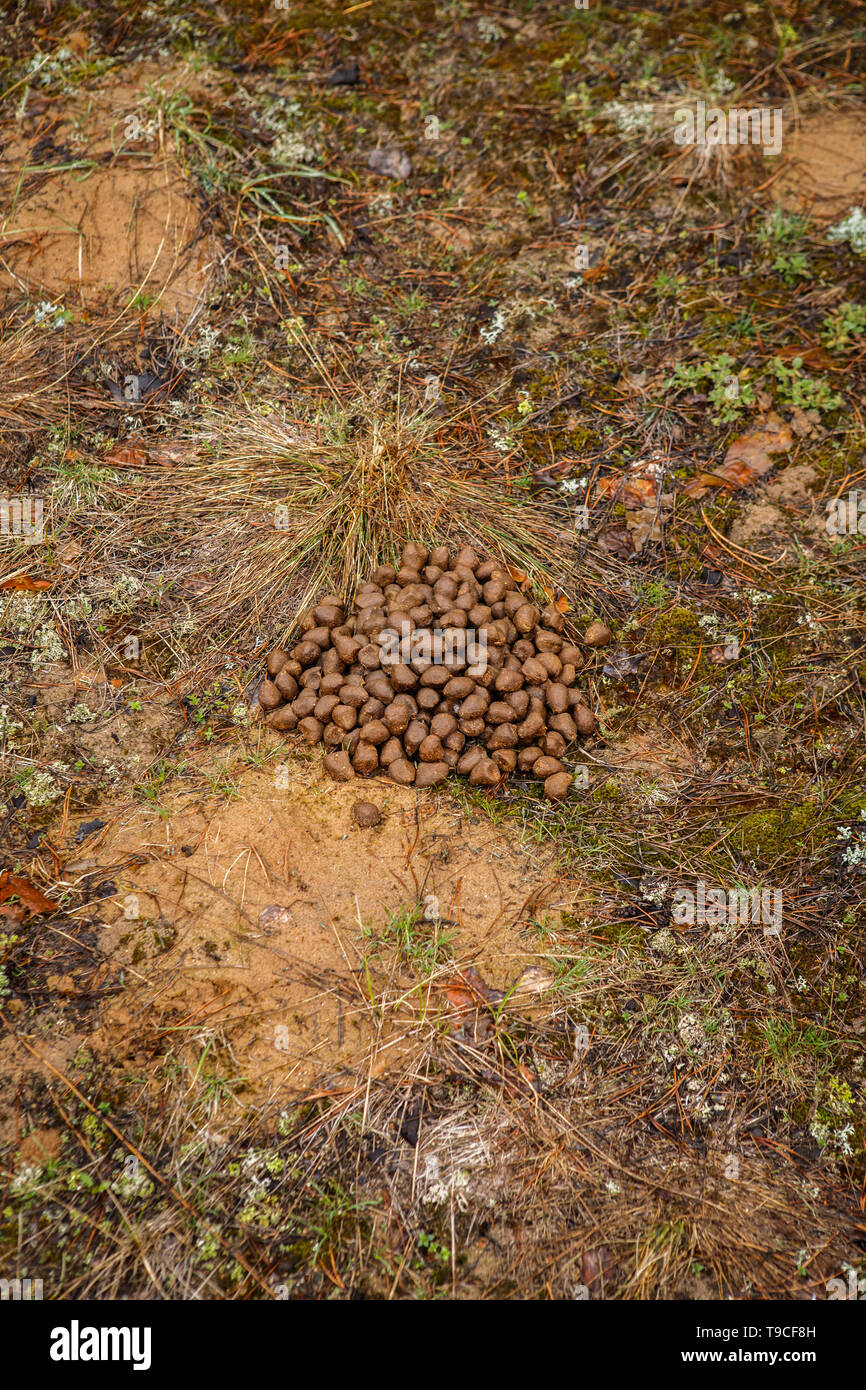Elk: (293, 550, 573, 772)
